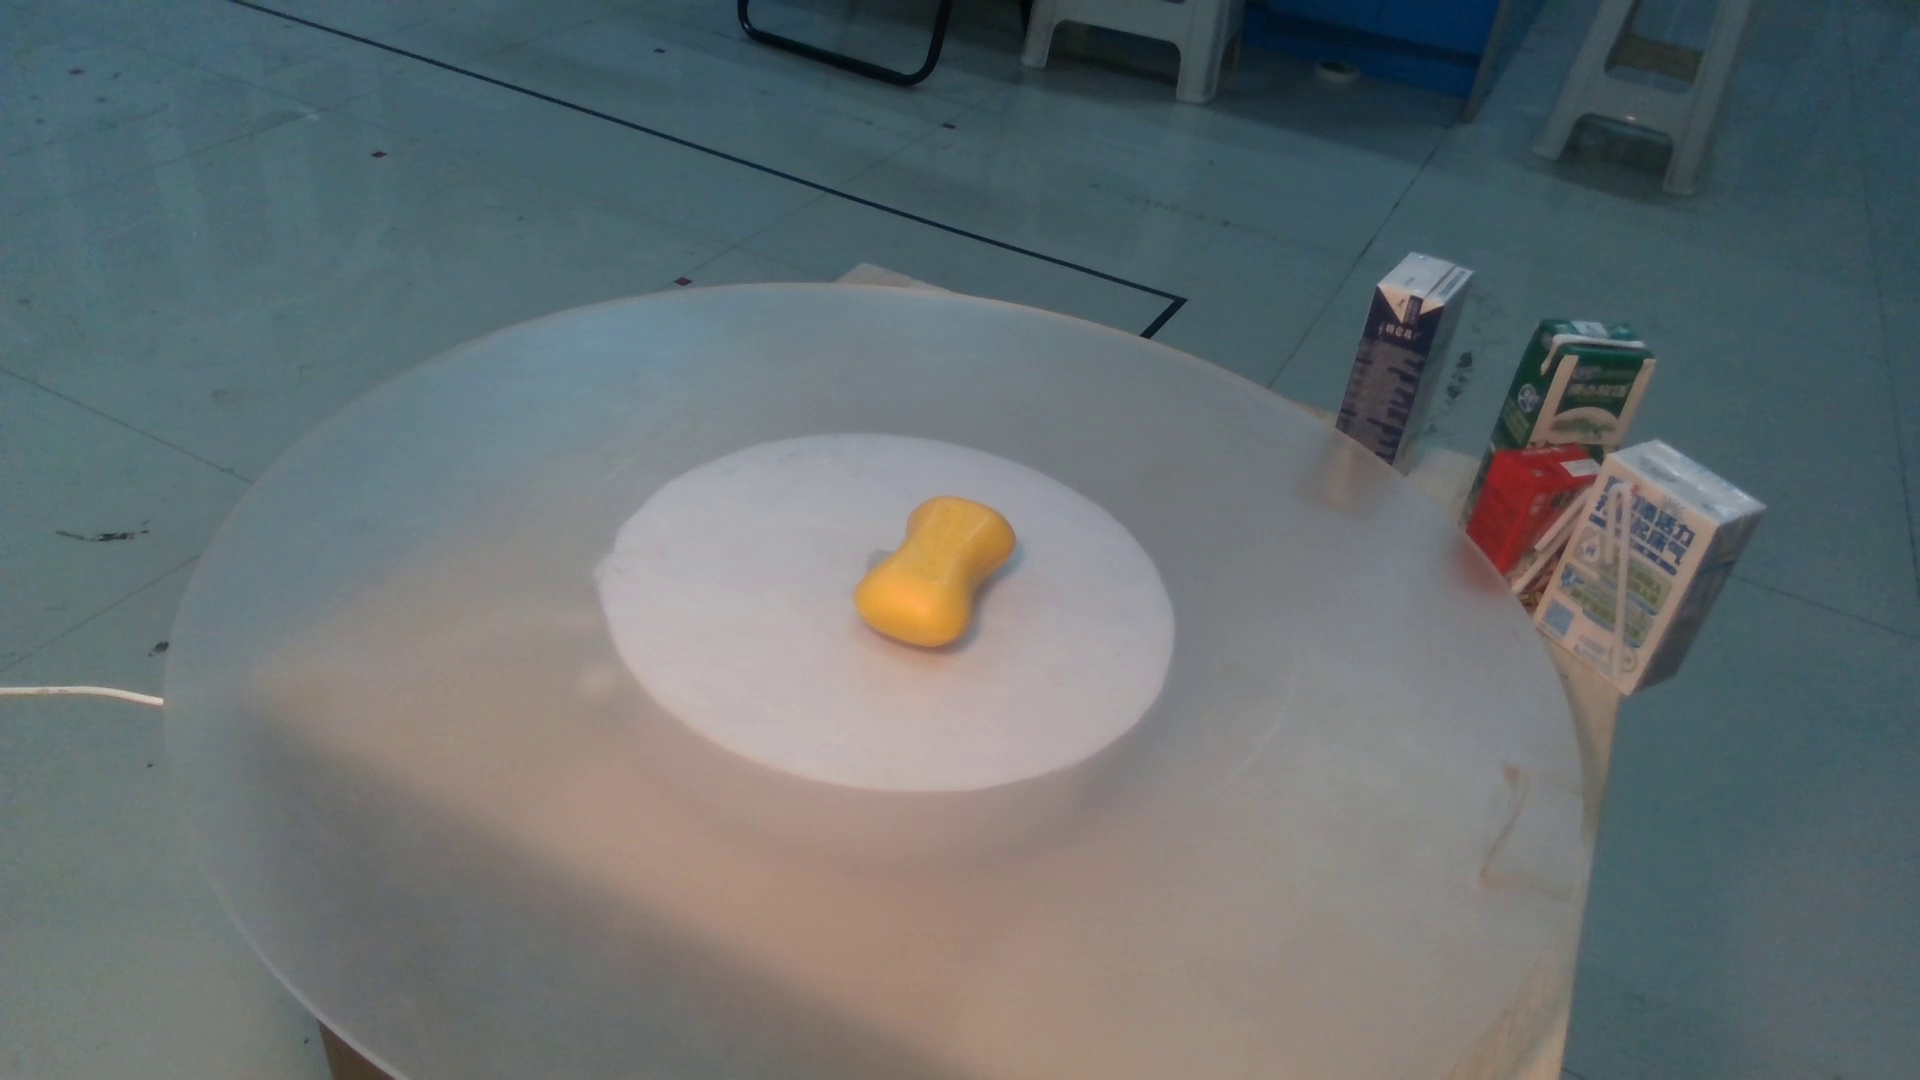CA003_1: (825, 484, 1027, 665)
